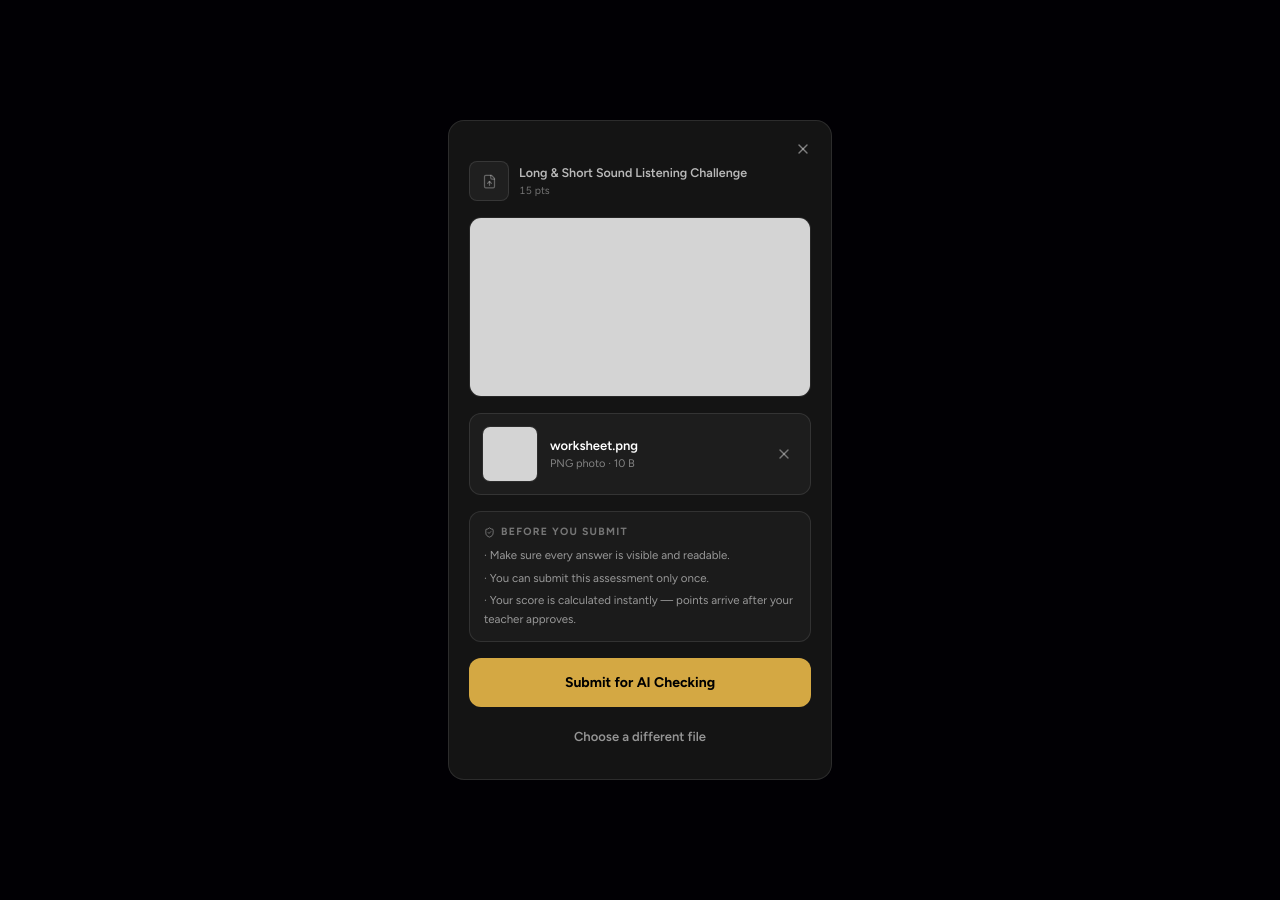
Test: successful submission renders the backend's own score — never a fabricated one
Earlier steps of the test are not shown.
Step 1. Click the button with test id "assessment-submit-confirm-button" → point(640, 682), box [469,658,811,707]
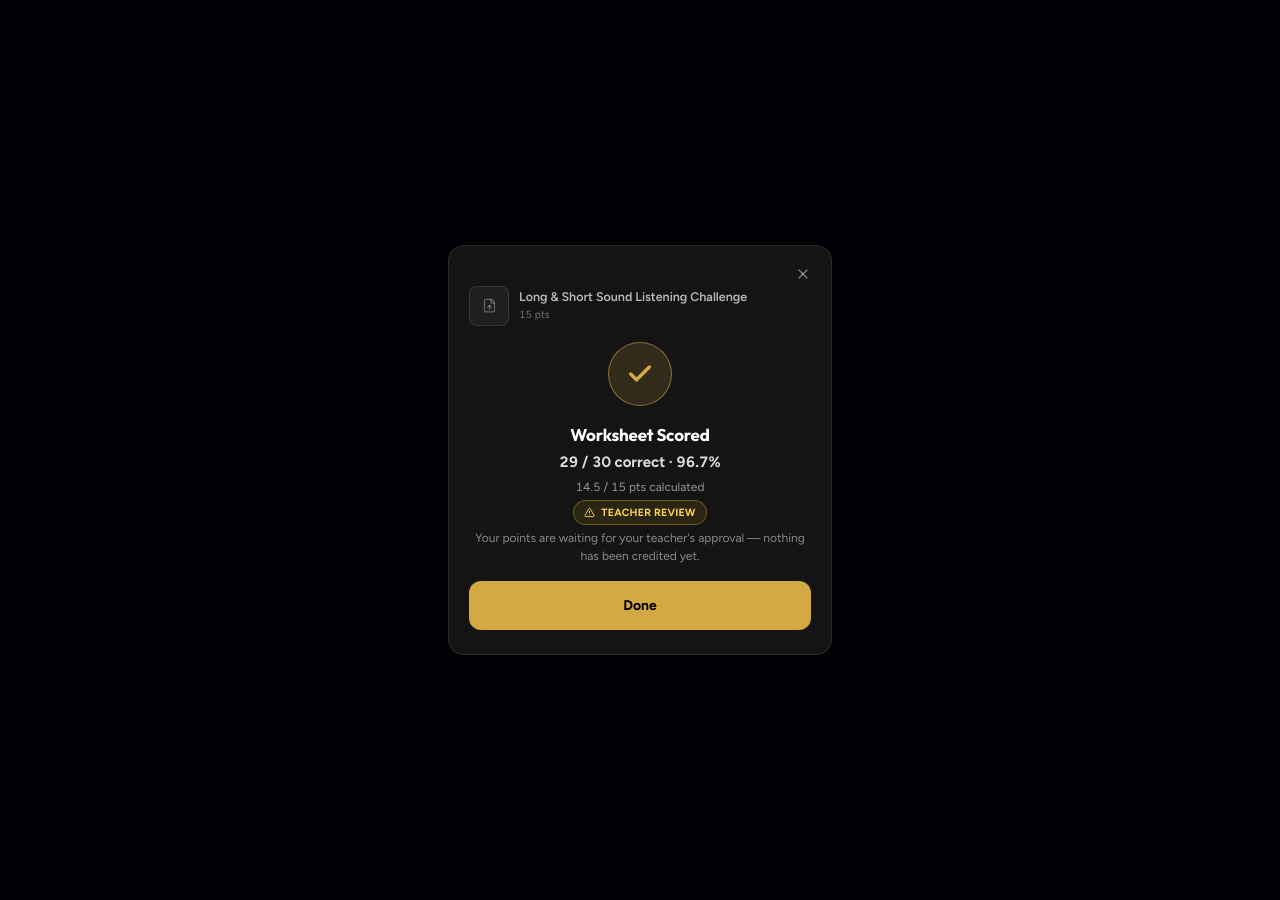
Check: the element with test id "assessment-submit-result" is shown, box [469,282,811,634]
Check: the text with test id "assessment-submit-score" shows "29 / 30 correct", box [559,453,721,471]
Check: the text with test id "assessment-submit-score" shows "96.7%", box [559,453,721,471]
